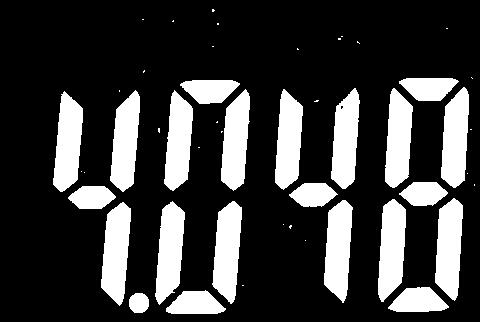0: (156, 75, 253, 317)
4: (271, 82, 367, 307), (48, 84, 142, 310)
8: (377, 73, 473, 313)
dot: (126, 288, 151, 315)
